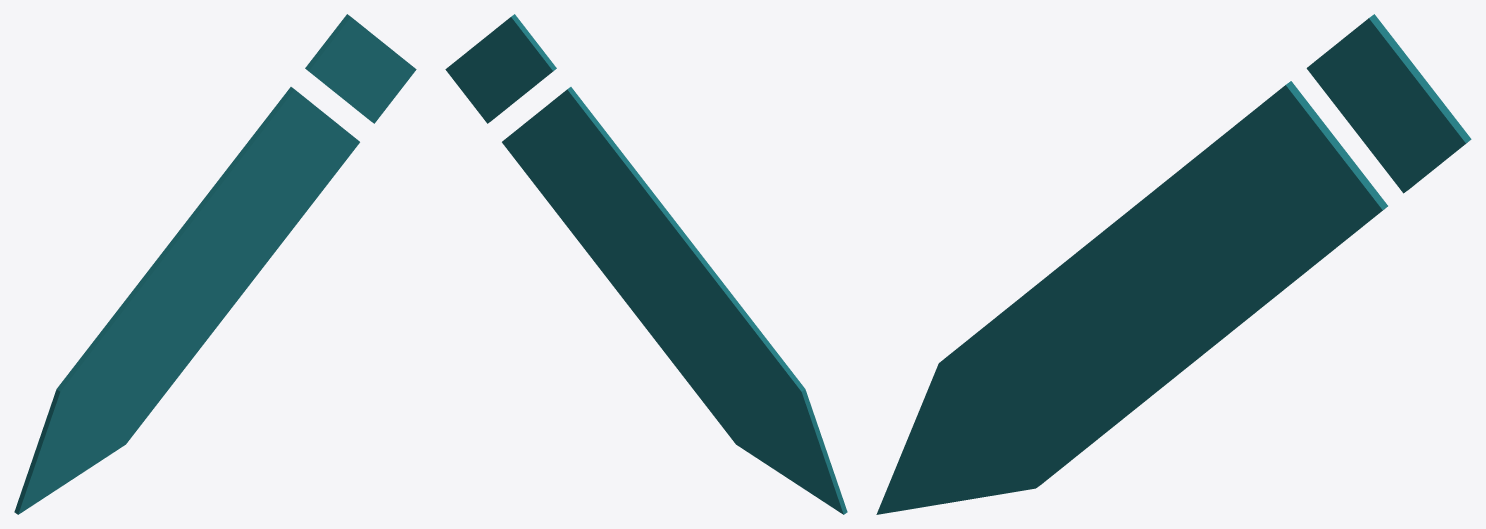
The model's file is icon_drawing.glb.
3 renders of one model, left to right at view 1: azimuth 30°, elevation 25°; view 2: azimuth 150°, elevation 25°; view 3: azimuth 330°, elevation 25°, orthographic. The views are drawn at different scales.
Visible parts, largest first — view 1: icon_drawing; view 2: icon_drawing; view 3: icon_drawing.
Boxes of the visible parts, left/top/right/bottom form: icon_drawing: left=14, top=14, right=416, bottom=514; icon_drawing: left=445, top=14, right=847, bottom=514; icon_drawing: left=876, top=14, right=1471, bottom=514.
Bounding box in the file's own units: 0.3005 × 0.3005 × 0.005.
